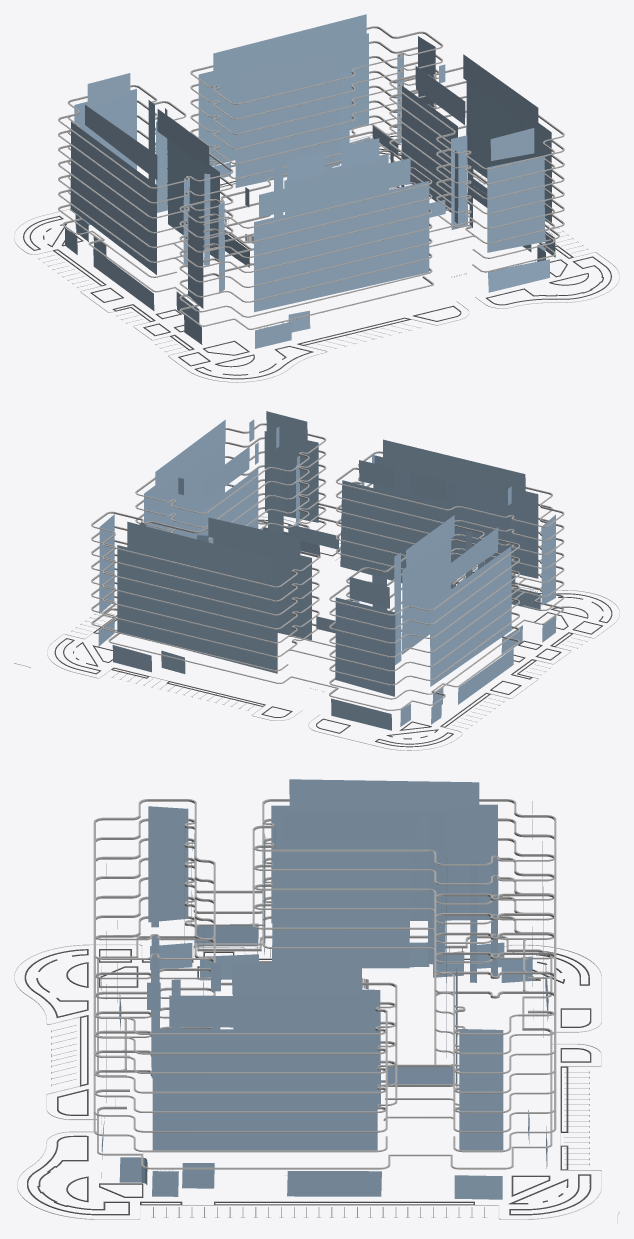
Rendered from MAG_11_build_B.glb.
3 renders of one model, top to bottom at view 1: azimuth 30°, elevation 25°; view 2: azimuth 150°, elevation 25°; view 3: azimuth 270°, elevation 25°, orthographic. The views are drawn at different scales.
Visible parts, largest first — view 1: B_Build; view 2: B_Build; view 3: B_Build.
Part boxes in pixels (x1,y1,x2,y2): B_Build: (14,14,619,382); B_Build: (14,411,619,750); B_Build: (14,779,619,1223).
Bounding box in the file's own units: 129 × 43.03 × 118.
